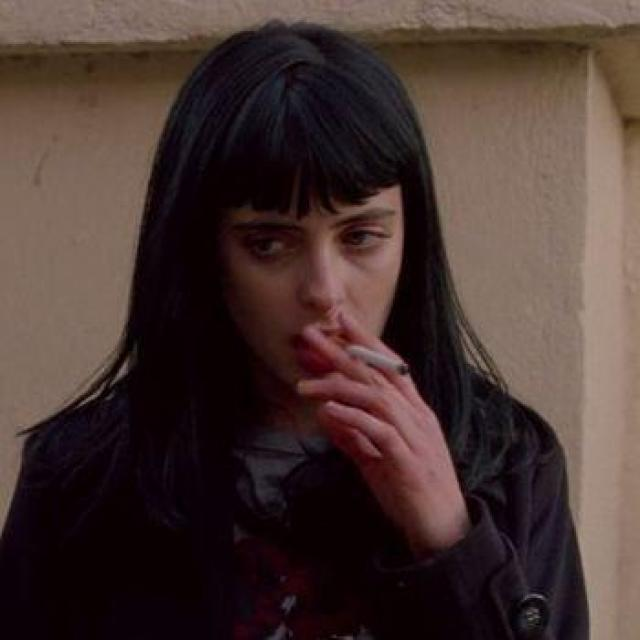cigarette: (318, 322, 424, 391)
